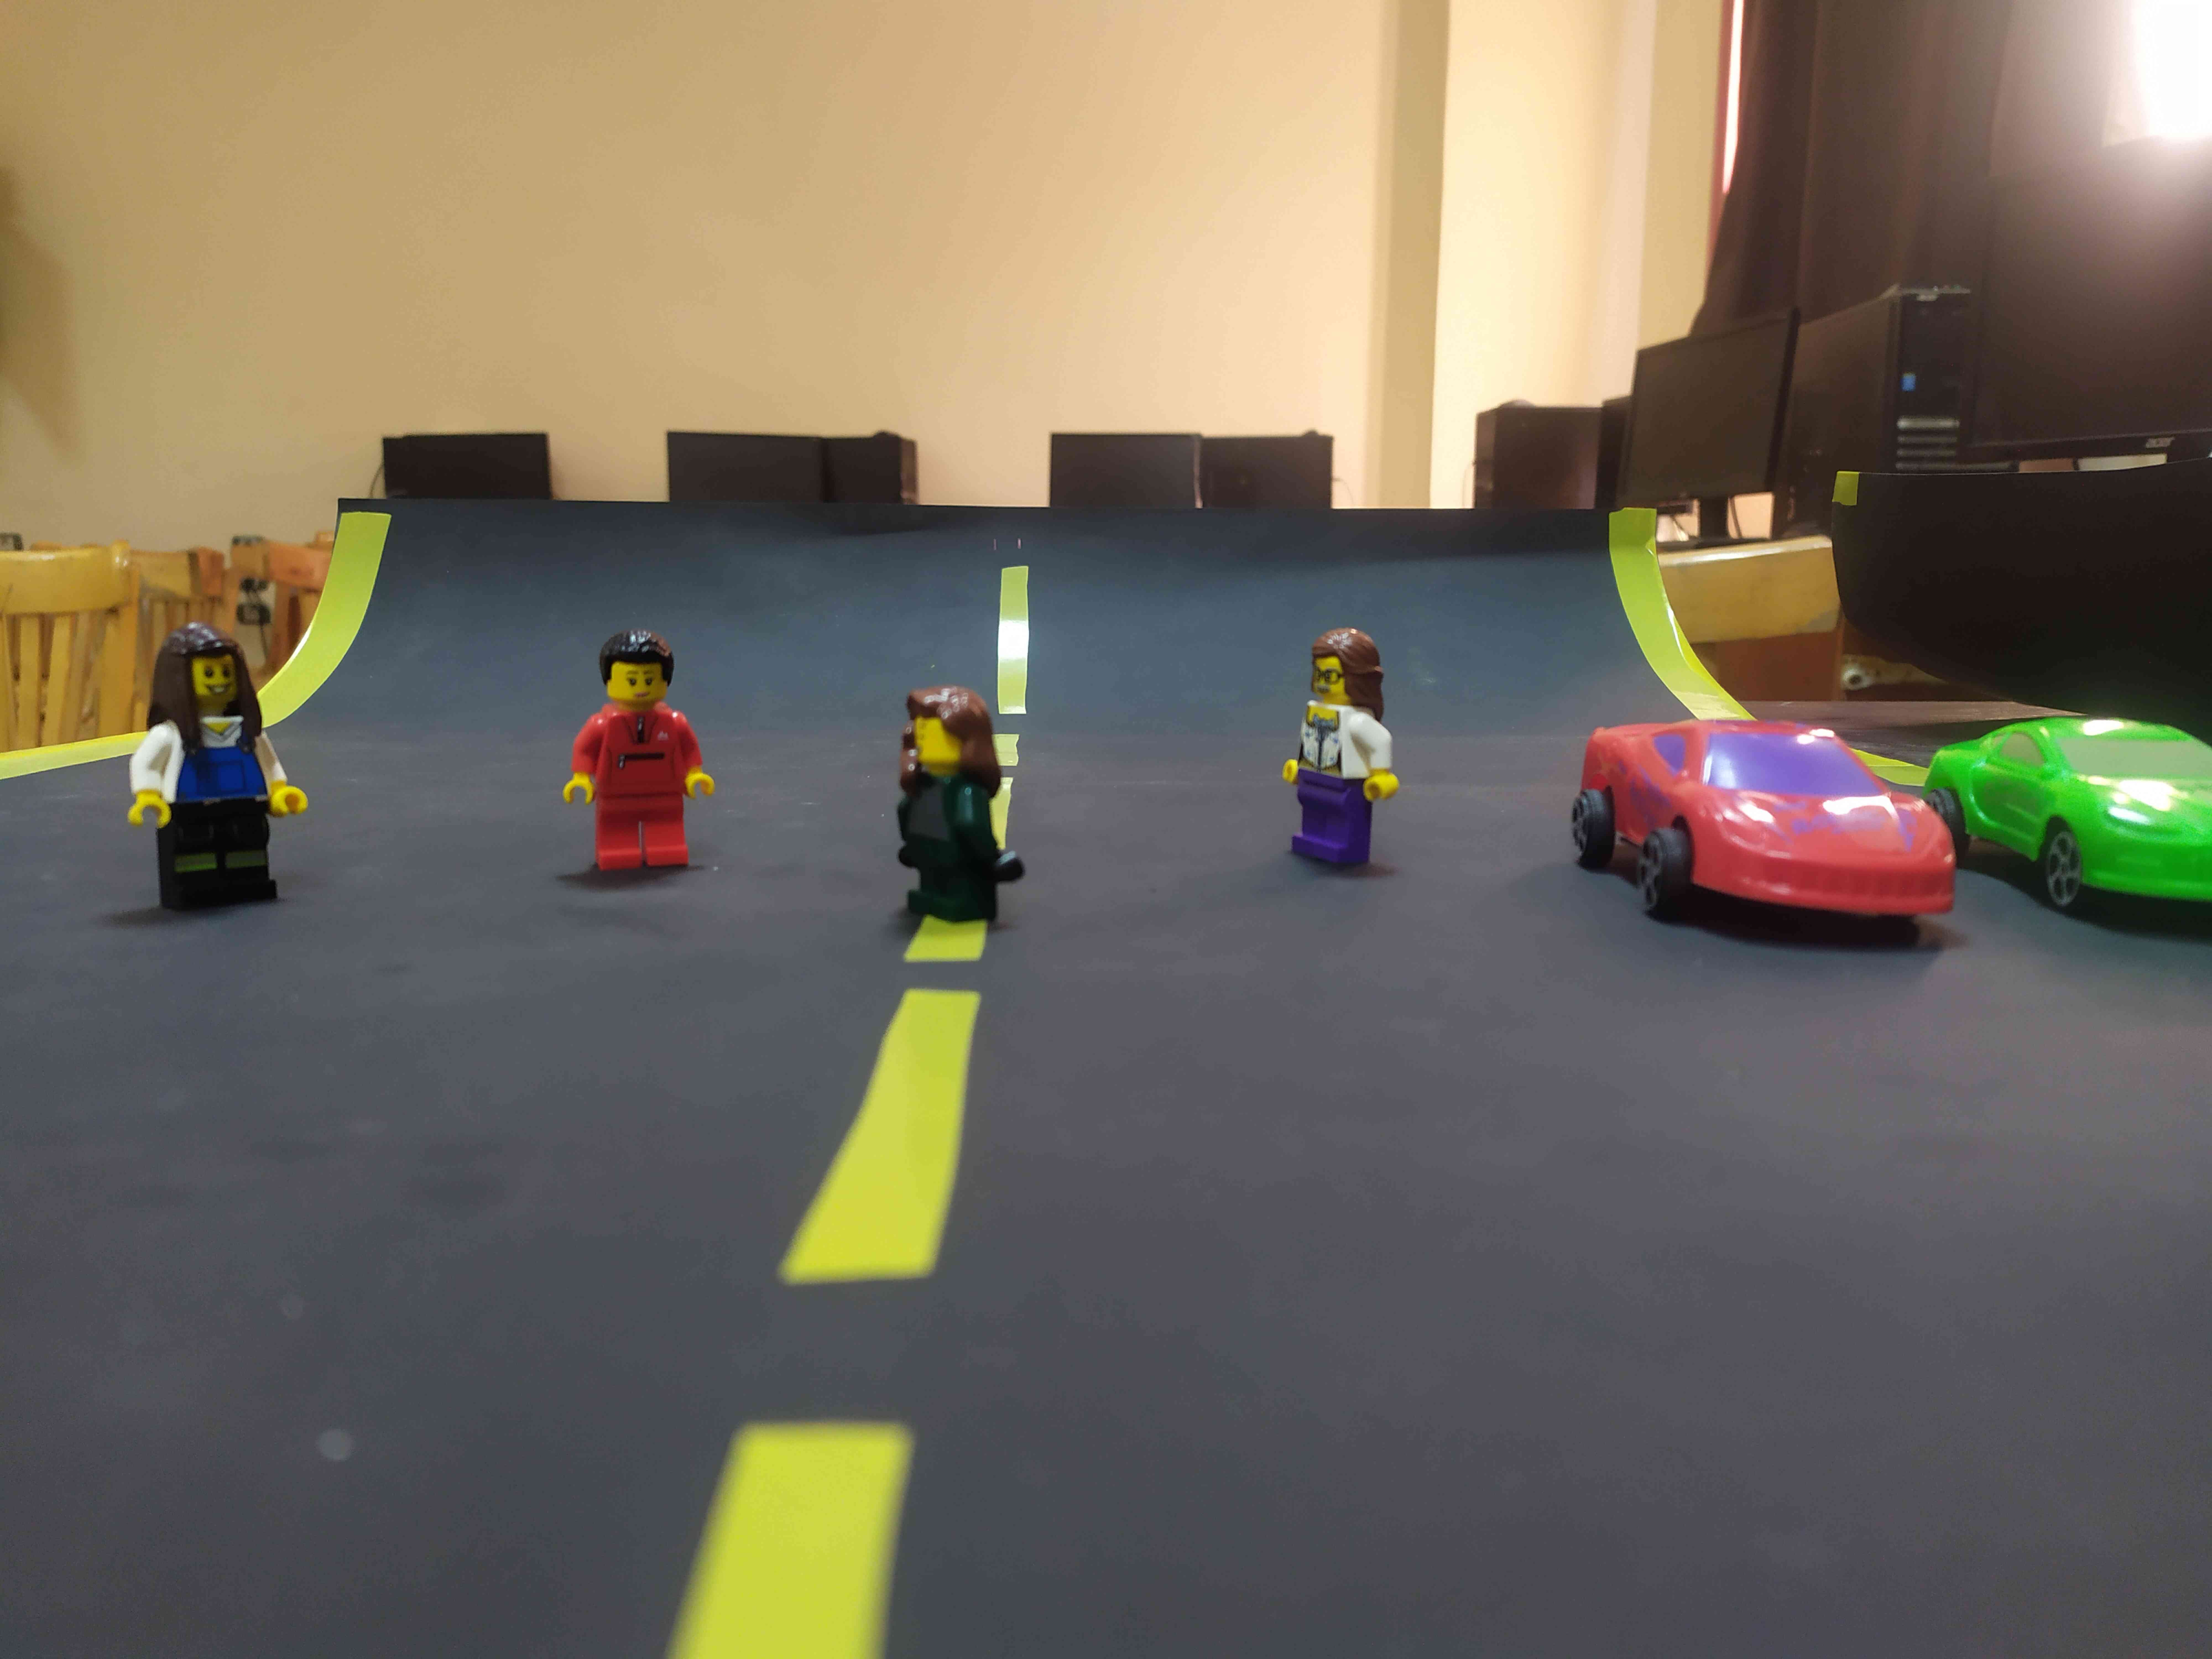car: (1573, 647, 1944, 995), (1960, 647, 2204, 929)
person: (517, 625, 738, 907), (108, 619, 290, 951), (860, 653, 1015, 1018), (1253, 619, 1413, 885)
